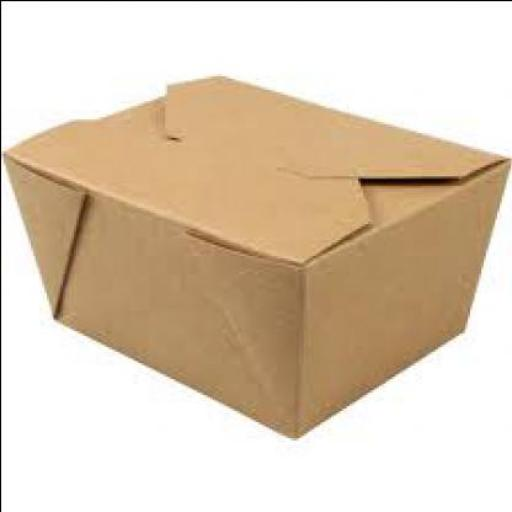cardboard: (4, 70, 510, 438)
